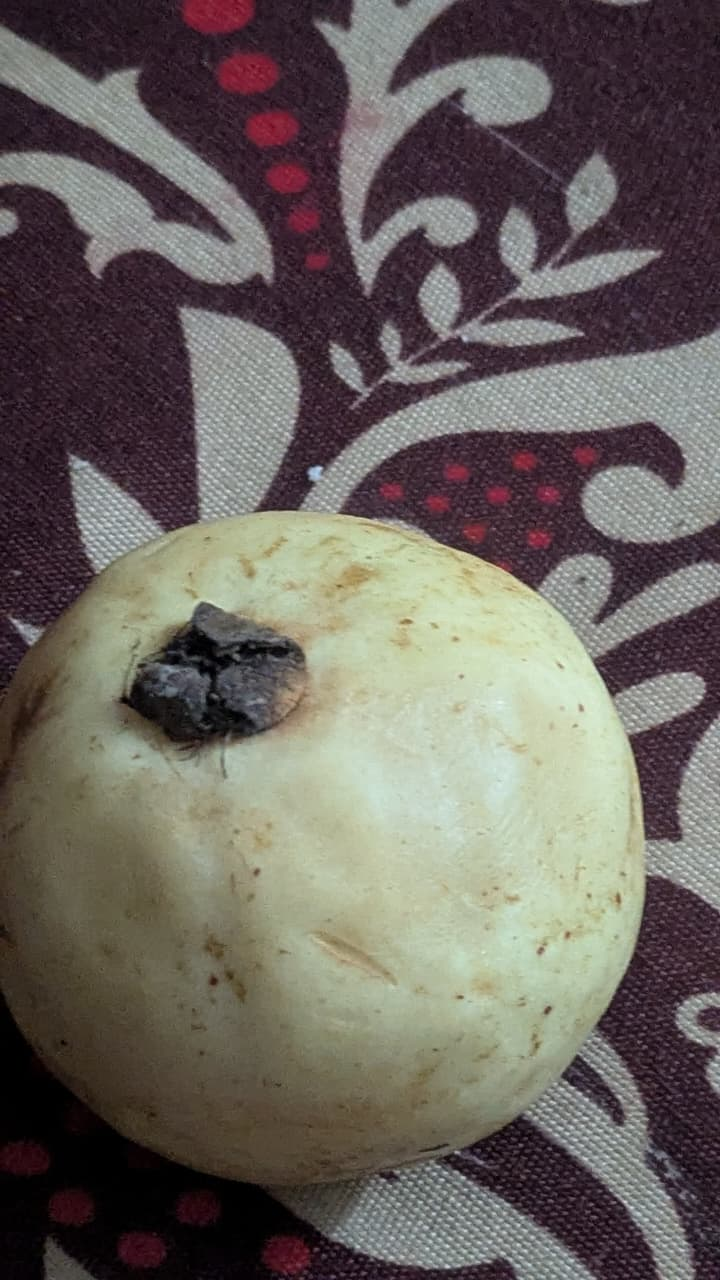guava: (109, 99, 680, 1143)
